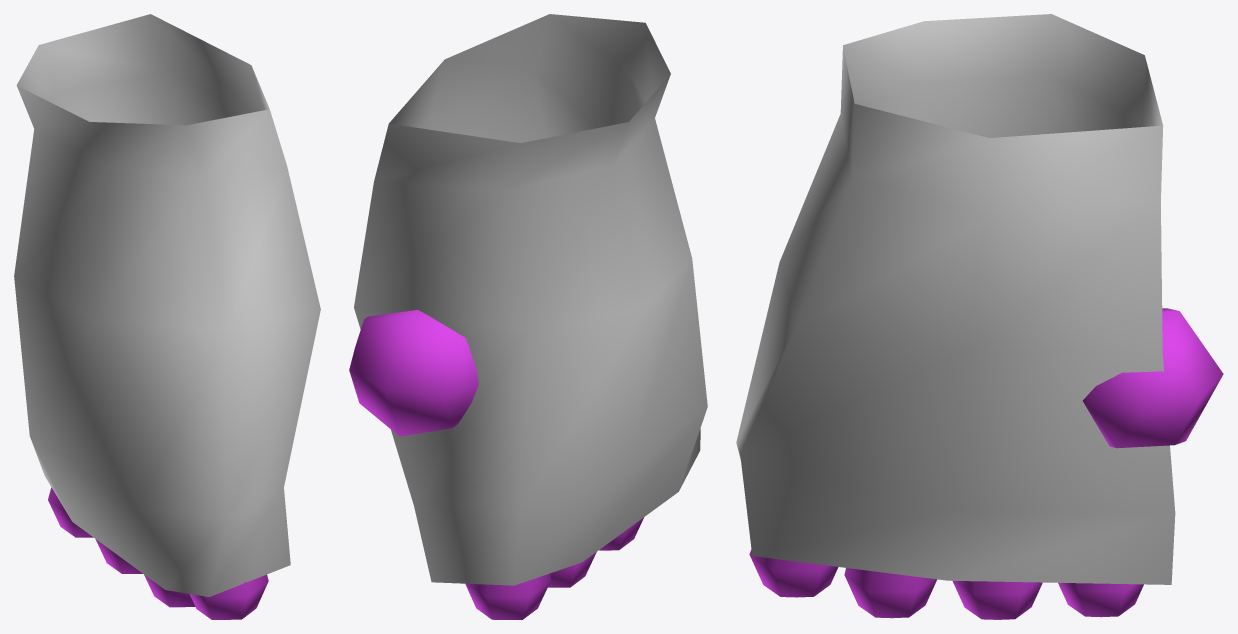
The model's file is hand.gltf.
3 renders of one model, left to right at view 1: azimuth 30°, elevation 25°; view 2: azimuth 150°, elevation 25°; view 3: azimuth 270°, elevation 25°, orthographic. The views are drawn at different scales.
Parts seen in each view (by area): view 1: LEFT_HAND; view 2: LEFT_HAND; view 3: LEFT_HAND.
Boxes of the visible parts, x1,y1,x2,y2 form: LEFT_HAND: (14, 14, 320, 619); LEFT_HAND: (349, 14, 707, 619); LEFT_HAND: (736, 14, 1223, 619).
Bounding box in the file's own units: 0.0735 × 0.1509 × 0.1181.
